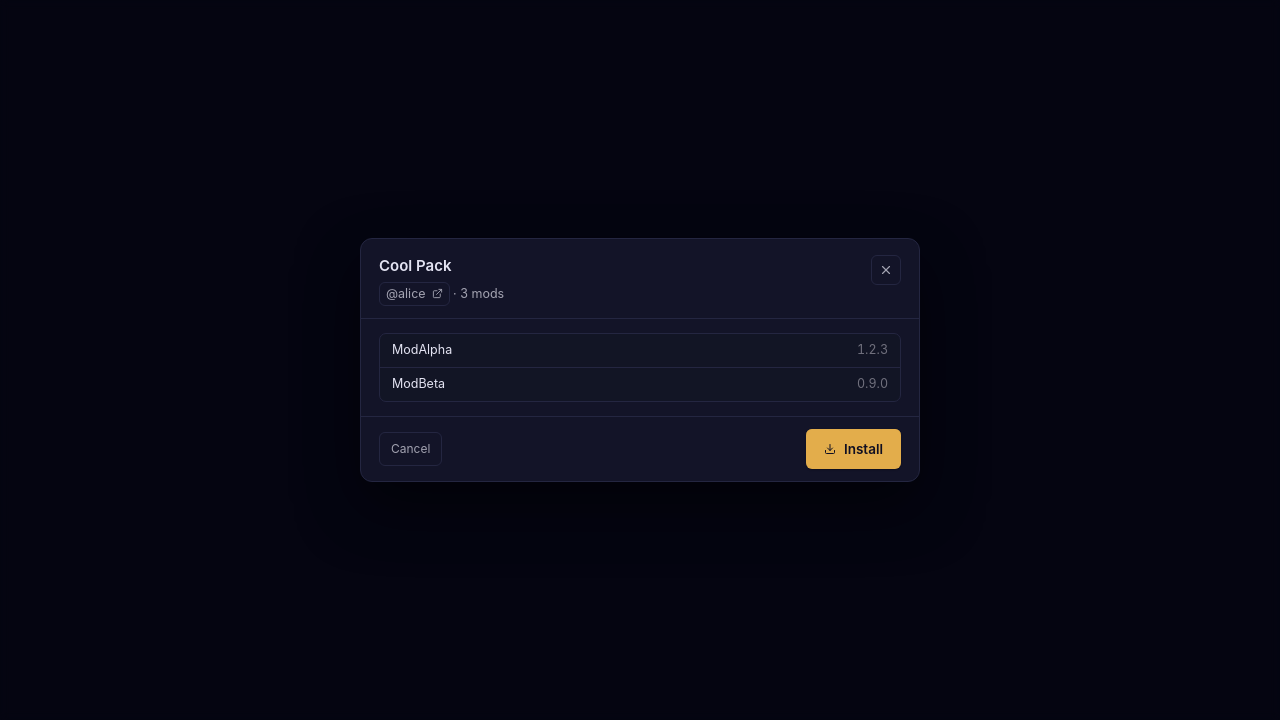
Scenario: <BrowseModpackDetail> › Install button shows "Installing…" copy and is disabled while pending
Check: the text "ModAlpha" is shown, box [392,341,452,360]
What coordinates should you click on to do the following:
click the button "Install"
I would click on:
 (853, 449)
Its box is [806,429,901,469].
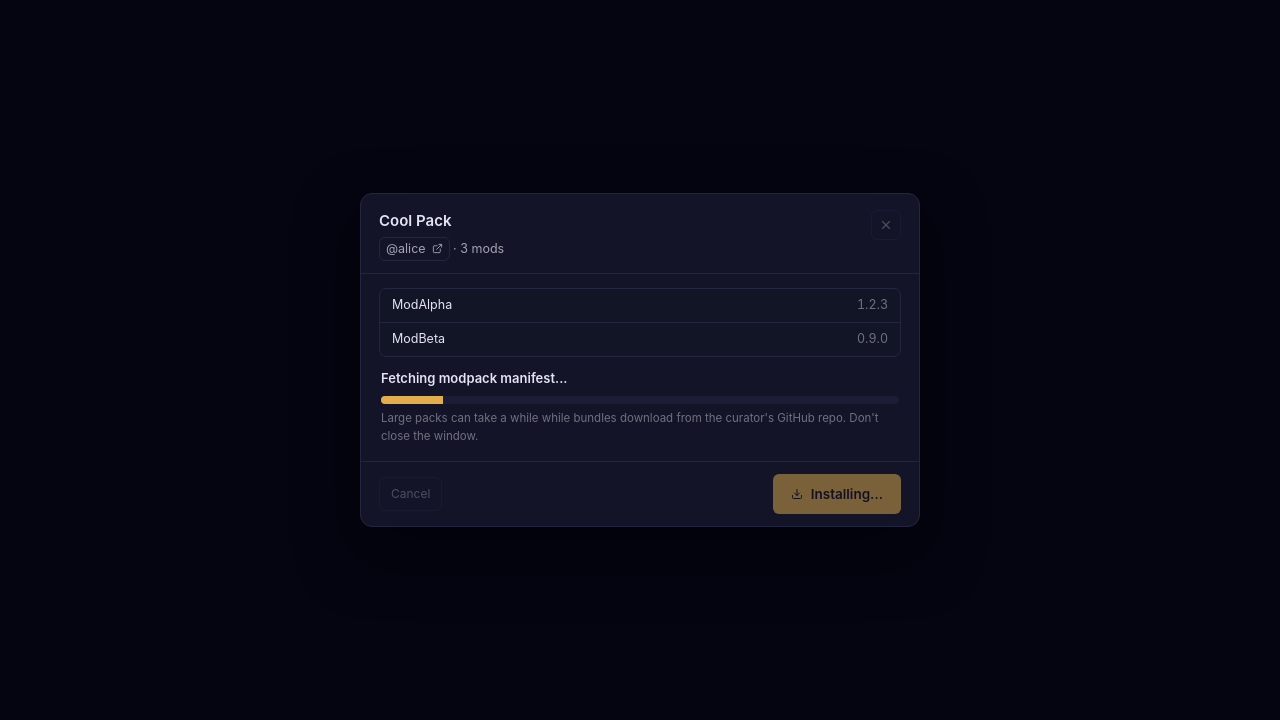
Check: the button "Installing..." is disabled, box [773,474,901,514]
